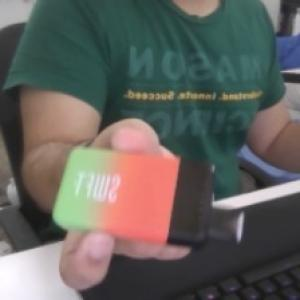Swift-E-Ciggirate: (50, 144, 247, 252)
